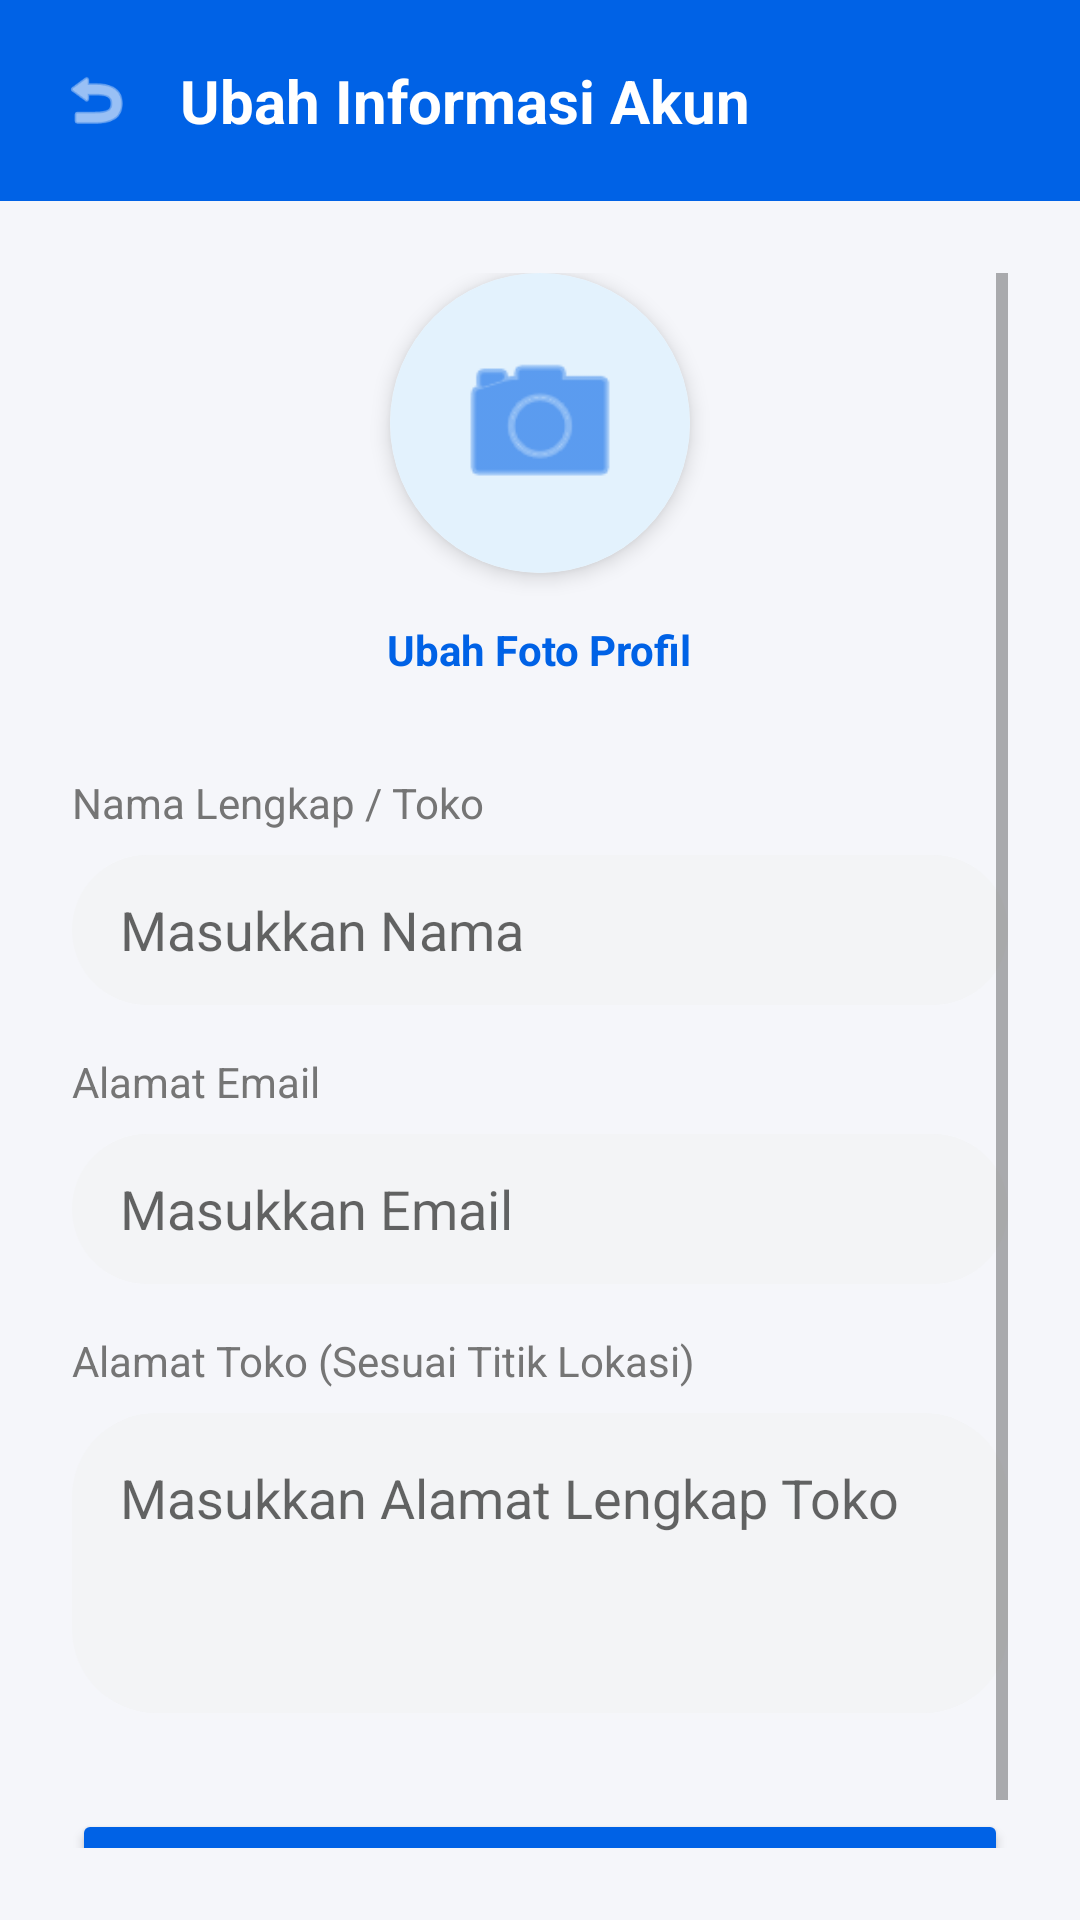

Where to tap for icons on this 1080px×1920px app screen, as (x,y):
camera: (540,423)
revert: (97,100)
